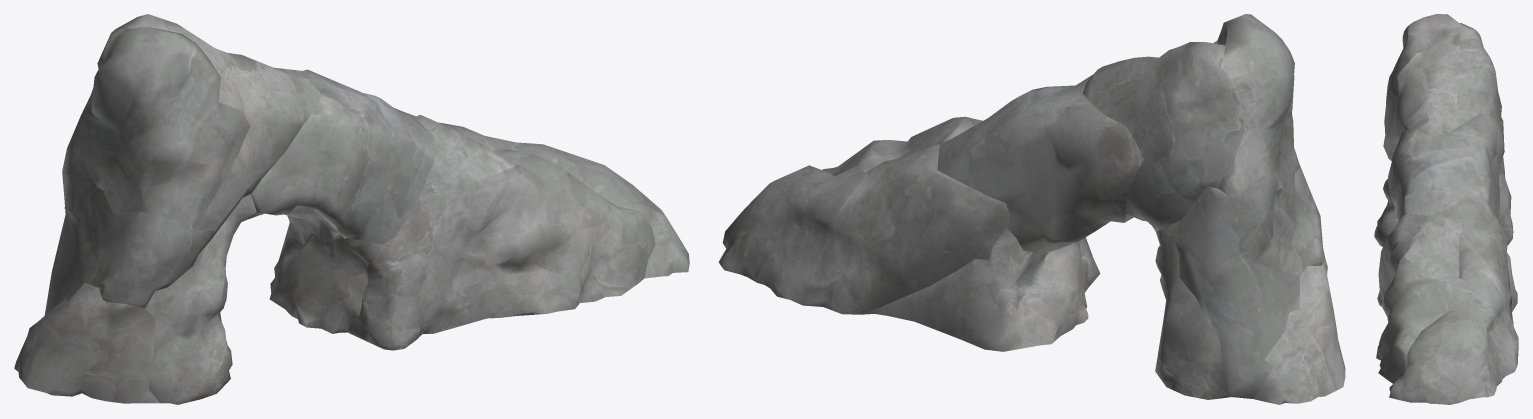
File: SM_Com_Roc_29AS.fbx
3 views of the same model, side by side, from view 1: azimuth 30°, elevation 25°; view 2: azimuth 150°, elevation 25°; view 3: azimuth 270°, elevation 25° (orthographic). The views are drawn at different scales.
Visible parts, largest first — view 1: SM_Com_Roc_29AS.mo; view 2: SM_Com_Roc_29AS.mo; view 3: SM_Com_Roc_29AS.mo.
Boxes of the visible parts, box(x1,y1,x2,y2) form: SM_Com_Roc_29AS.mo: box(14, 14, 689, 404); SM_Com_Roc_29AS.mo: box(718, 14, 1345, 404); SM_Com_Roc_29AS.mo: box(1374, 14, 1518, 404).
Size of the model in its own units: 42.76 by 21.94 by 12.86.
